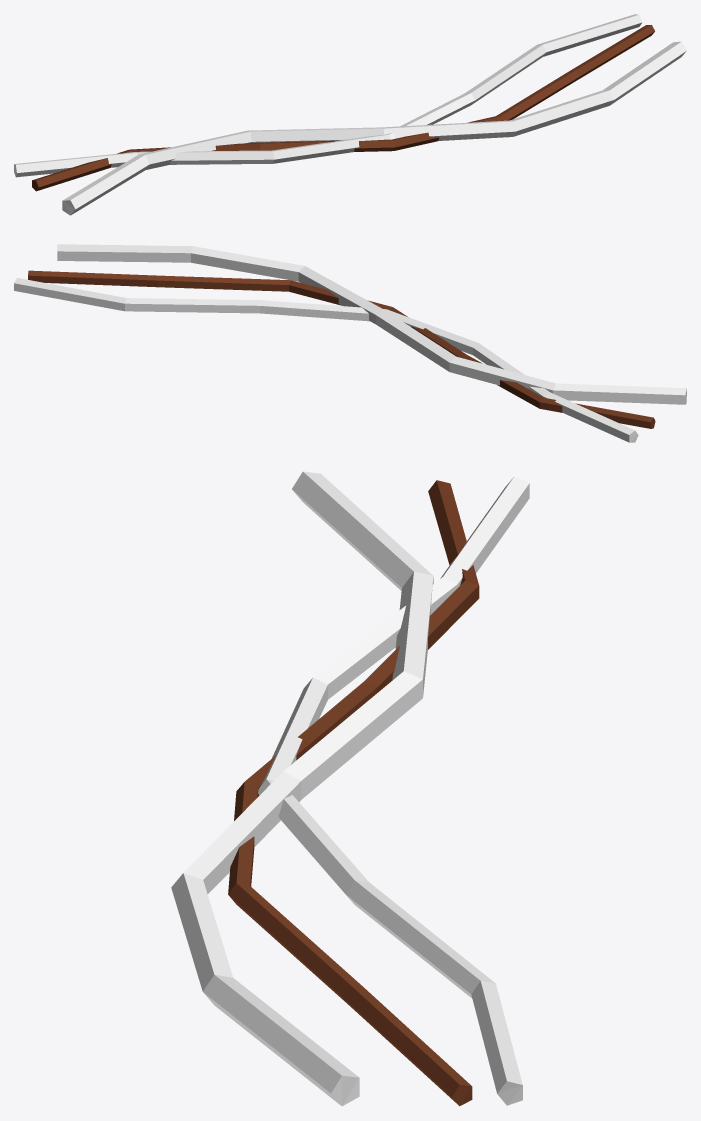
The model's file is Cable_Floor_Run.fbx.
3 renders of one model, top to bottom at view 1: azimuth 30°, elevation 25°; view 2: azimuth 150°, elevation 25°; view 3: azimuth 270°, elevation 25°, orthographic. The views are drawn at different scales.
Parts seen in each view (by area): view 1: Cable_Floor_Run; view 2: Cable_Floor_Run; view 3: Cable_Floor_Run.
Boxes of the visible parts, bbox=[...] form: Cable_Floor_Run: bbox=[14, 14, 686, 215]; Cable_Floor_Run: bbox=[14, 244, 686, 442]; Cable_Floor_Run: bbox=[171, 471, 529, 1106].
Size of the model in its own units: 4.04 by 0.0958 by 1.
